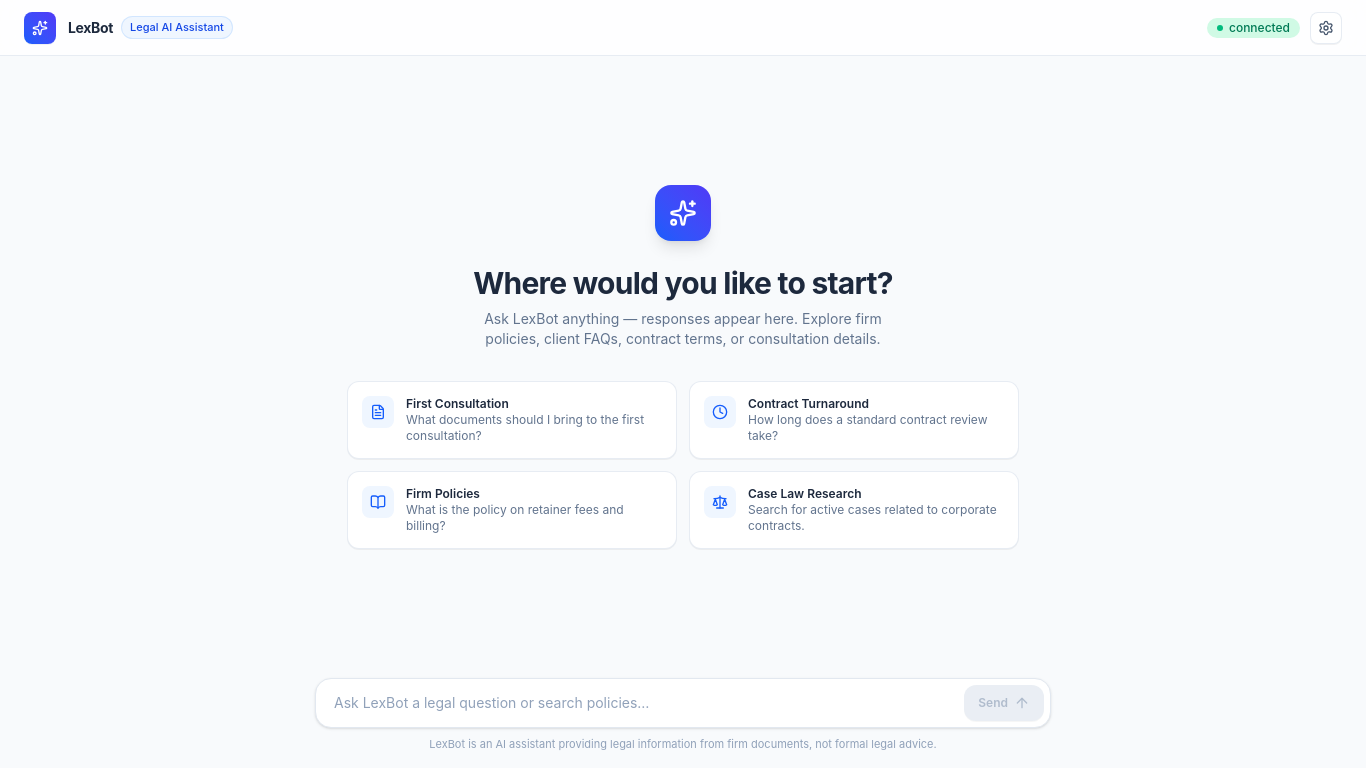
Test: ChatView › renders a user bubble and the answer bubble after sending (UI-1.1)
The width and height of the screenshot is (1366, 768).
In the field named "message": (643, 702) left=322, top=684, right=964, bottom=720, type "What is LexBot?"
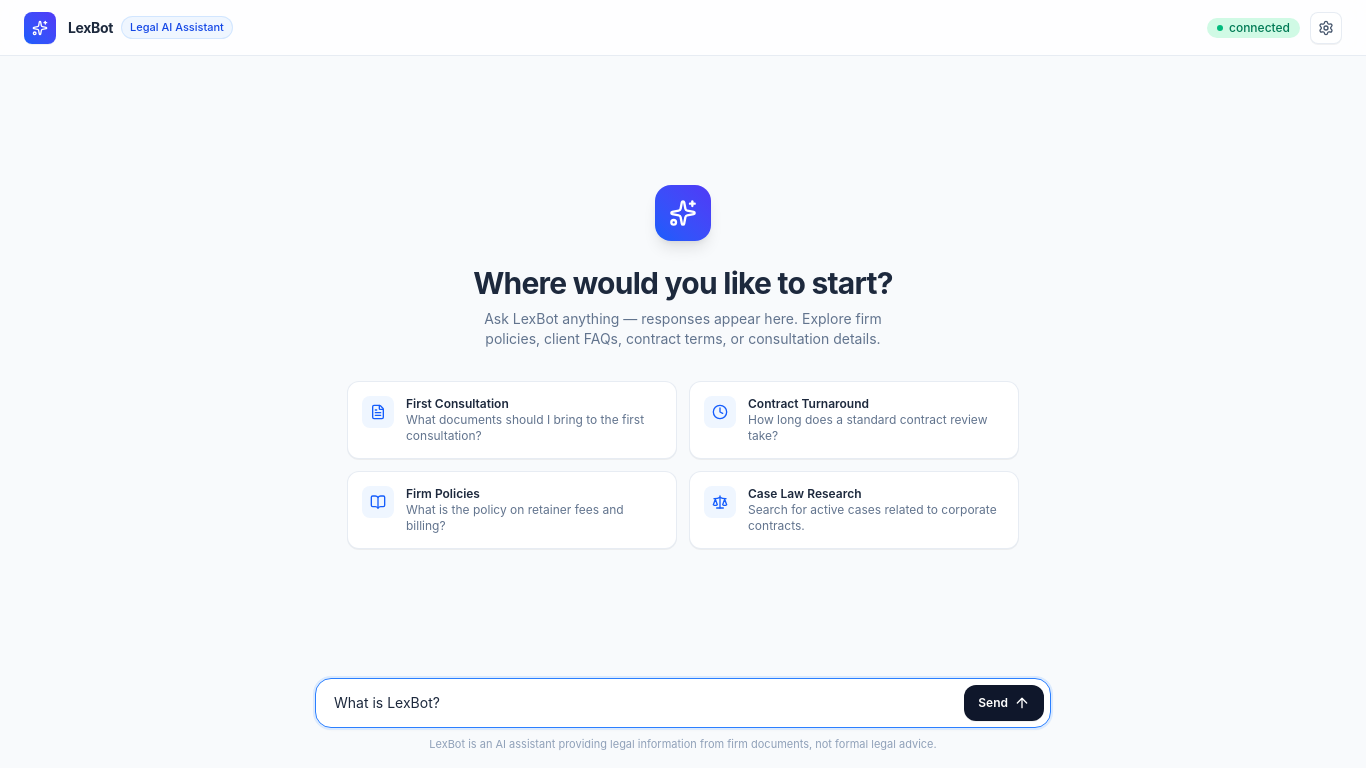
Click the button "Send": (1004, 702) left=964, top=684, right=1044, bottom=720
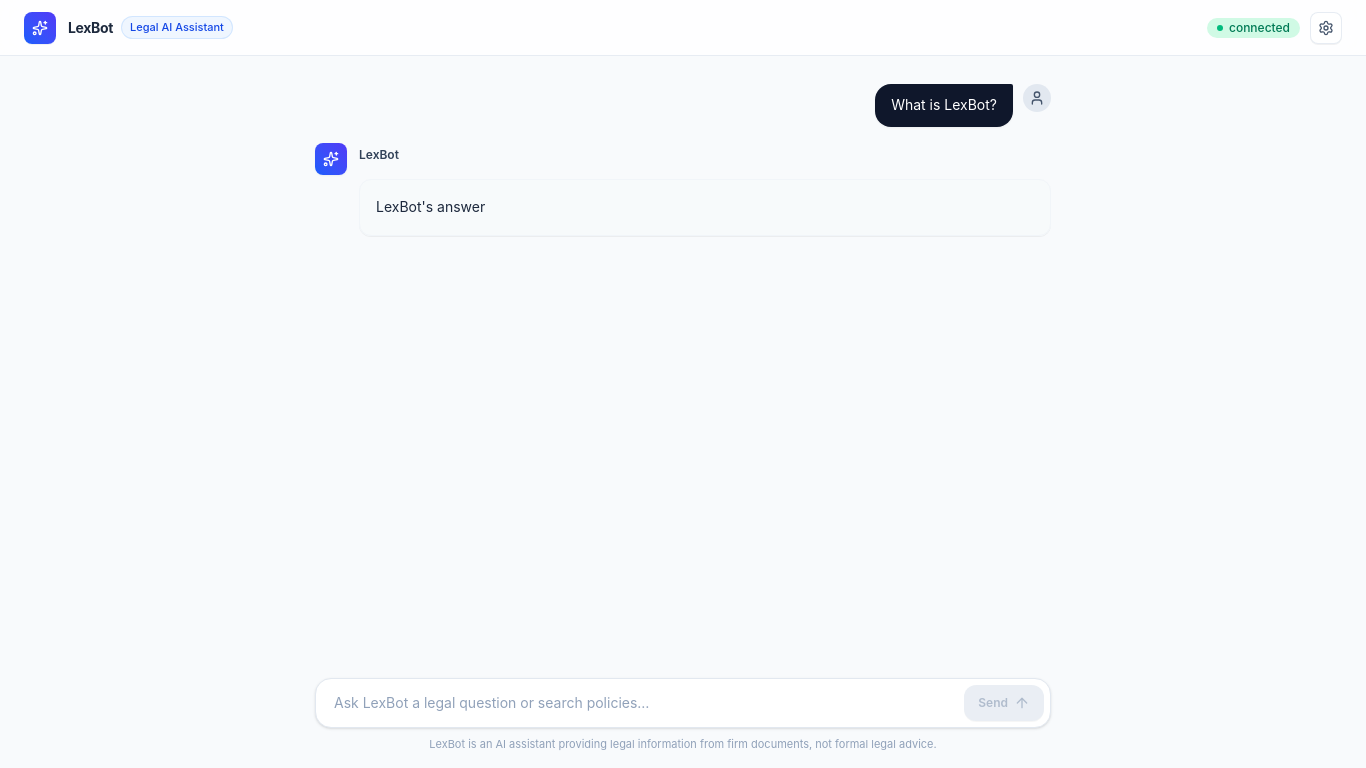
Expected: the text "What is LexBot?" is shown, left=891, top=94, right=997, bottom=117
Expected: the text "LexBot's answer" is shown, left=376, top=198, right=485, bottom=215
